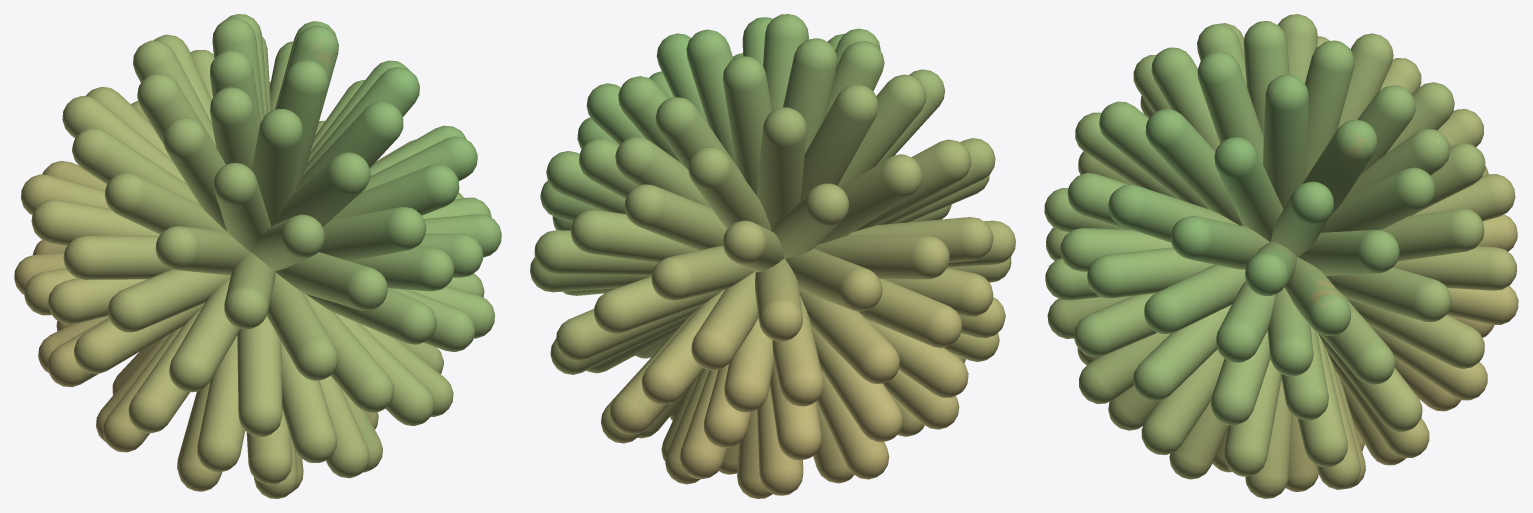
The model's file is 01_bloomspire_static.glb.
3 renders of one model, left to right at view 1: azimuth 30°, elevation 25°; view 2: azimuth 150°, elevation 25°; view 3: azimuth 270°, elevation 25°, orthographic.
Parts seen in each view (by area): view 1: Cloner.5; view 2: Cloner.5; view 3: Cloner.5.
Part boxes in pixels (<box>): Cloner.5: <box>14,14,501,498</box>; Cloner.5: <box>530,14,1015,498</box>; Cloner.5: <box>1044,14,1518,498</box>.
Bounding box in the file's own units: 0.0979 × 0.0962 × 0.0955.
1 material, 1 textured.
